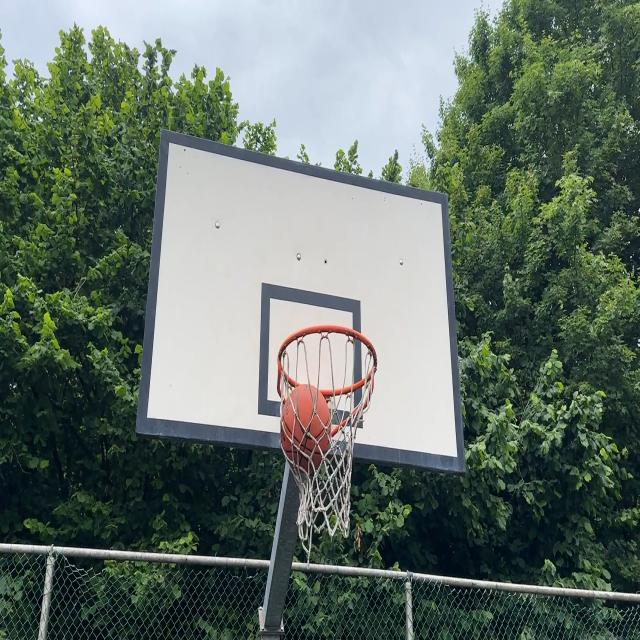Goal: (279, 389, 332, 473)
